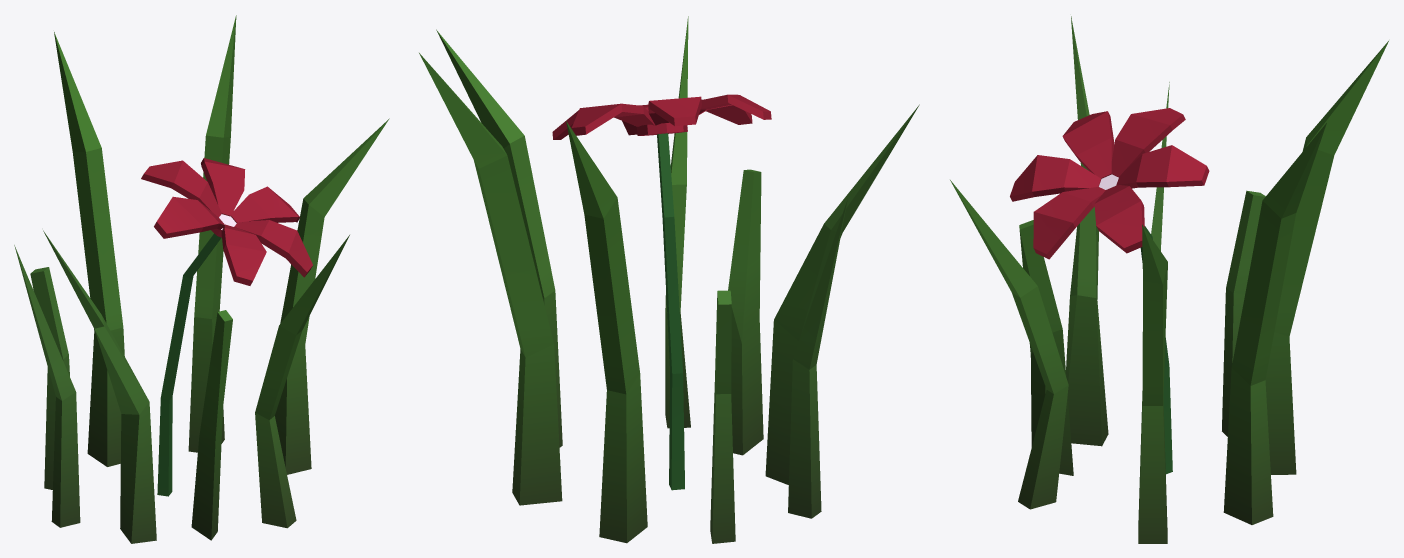
File: flower_grass_red.fbx
3 renders of one model, left to right at view 1: azimuth 30°, elevation 25°; view 2: azimuth 150°, elevation 25°; view 3: azimuth 270°, elevation 25°, orthographic. The views are drawn at different scales.
Parts seen in each view (by area): view 1: flower_grass_red; view 2: flower_grass_red; view 3: flower_grass_red.
Boxes of the visible parts, <box> form: flower_grass_red: <box>14,15,389,543</box>; flower_grass_red: <box>419,16,919,543</box>; flower_grass_red: <box>950,16,1388,543</box>.
Size of the model in its own units: 0.3779 by 0.3697 by 0.3451.
